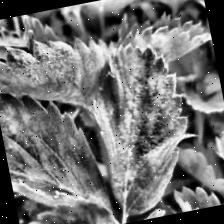Powdery Mildew Leaf: (0, 25, 128, 131), (112, 4, 215, 74)
